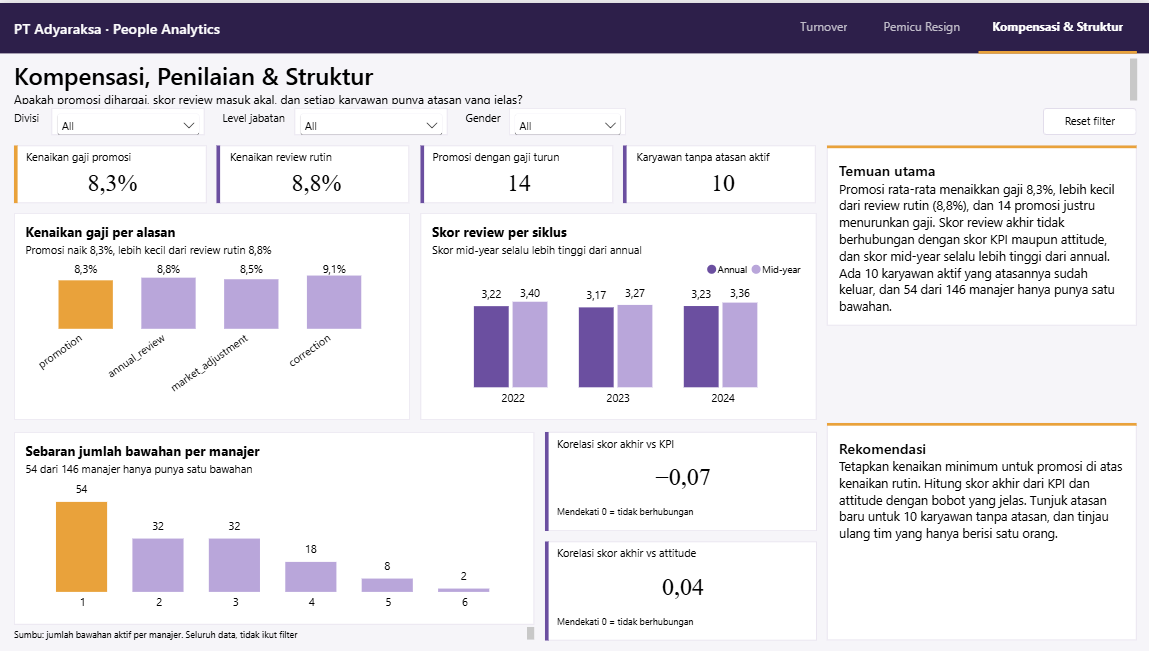

This screenshot's page, from the dashboard's own definition file:
{"tool":"powerbi","page":{"name":"Kompensasi & Struktur","canvas":[1280,720],"ordinal":2},"visuals":[{"type":"shape","box":[16,158,214,64],"z":0},{"type":"shape","box":[16,158,4,64],"z":1000},{"type":"textbox","box":[30,164,192,16],"z":2000},{"type":"card","fields":{"Values":["_Ukuran.Kenaikan Promosi %"]},"box":[30,180,192,38],"z":3000},{"type":"shape","box":[242,158,214,64],"z":4000},{"type":"shape","box":[242,158,4,64],"z":5000},{"type":"textbox","box":[256,164,192,16],"z":6000},{"type":"card","fields":{"Values":["_Ukuran.Kenaikan Review Rutin %"]},"box":[256,180,192,38],"z":7000},{"type":"shape","box":[468,158,214,64],"z":8000},{"type":"shape","box":[468,158,4,64],"z":9000},{"type":"textbox","box":[482,164,192,16],"z":10000},{"type":"card","fields":{"Values":["_Ukuran.Promosi Gaji Turun"]},"box":[482,180,192,38],"z":11000},{"type":"shape","box":[694,158,214,64],"z":12000},{"type":"shape","box":[694,158,4,64],"z":13000},{"type":"textbox","box":[708,164,192,16],"z":14000},{"type":"card","fields":{"Values":["_Ukuran.Tanpa Atasan Aktif"]},"box":[708,180,192,38],"z":15000},{"type":"clusteredColumnChart","title":"Kenaikan gaji per alasan","fields":{"Category":["salary_history.Alasan"],"Y":["_Ukuran.Kenaikan Gaji %"]},"box":[16,234,440,230],"z":16000},{"type":"clusteredColumnChart","title":"Skor review per siklus","fields":{"Category":["performance.review_year"],"Y":["_Ukuran.Skor Annual","_Ukuran.Skor Mid-year"]},"box":[468,234,440,230],"z":17000},{"type":"clusteredColumnChart","title":"Sebaran jumlah bawahan per manajer","fields":{"Category":["vw_q6_sebaran_span.jml_bawahan_aktif"],"Y":["_Ukuran.Jumlah Manajer Span"]},"box":[16,476,578,214],"z":18000},{"type":"textbox","box":[16,694,578,14],"z":19000},{"type":"shape","box":[606,476,302,110],"z":20000},{"type":"shape","box":[606,476,4,110],"z":21000},{"type":"textbox","box":[620,482,280,16],"z":22000},{"type":"card","fields":{"Values":["_Ukuran.Korelasi KPI"]},"box":[620,498,280,56],"z":23000},{"type":"textbox","box":[620,556,280,26],"z":24000},{"type":"shape","box":[606,598,302,110],"z":25000},{"type":"shape","box":[606,598,4,110],"z":26000},{"type":"textbox","box":[620,604,280,16],"z":27000},{"type":"card","fields":{"Values":["_Ukuran.Korelasi Attitude"]},"box":[620,620,280,56],"z":28000},{"type":"textbox","box":[620,678,280,26],"z":29000},{"type":"shape","box":[920.3,158.7,343.9,200.3],"z":30000},{"type":"shape","box":[920,158,344,3],"z":31000},{"type":"textbox","box":[933.6,175.7,315.6,173.9],"z":32000},{"type":"shape","box":[920,467,344,241],"z":33000},{"type":"shape","box":[920,467,344,3],"z":34000},{"type":"textbox","box":[934,484,316,214],"z":35000},{"type":"shape","box":[0,0,1280,56],"z":36000},{"type":"textbox","box":[16,16,360,26],"z":37000},{"type":"actionButton","box":[868,0,96,53],"z":38000},{"type":"actionButton","box":[964,0,124,53],"z":39000},{"type":"actionButton","box":[1088,0,176,53],"z":40000},{"type":"shape","box":[1088,53,176,3],"z":41000},{"type":"textbox","box":[16,62,1248,50],"z":42000},{"type":"textbox","box":[16,120,38,22],"z":43000},{"type":"slicer","fields":{"Values":["departments.division"]},"box":[58,116,170,30],"z":44000},{"type":"textbox","box":[248,120,76,22],"z":45000},{"type":"slicer","fields":{"Values":["employees.level_jabatan"]},"box":[328,116,170,30],"z":46000},{"type":"textbox","box":[518,120,44,22],"z":47000},{"type":"slicer","fields":{"Values":["employees.gender"]},"box":[566,116,130,30],"z":48000},{"type":"actionButton","box":[1160,116,104,30],"z":49000}]}

Visuals, with their boxes on the page's 1280x720 design canvas (x1, y1, x2, y2). These are canvas units, not pixel positions in the 1149x651 screenshot, which may show the page scaled, cropped or inside an application window:
shape: 16,158,230,222
shape: 16,158,20,222
textbox: 30,164,222,180
card - _Ukuran.Kenaikan Promosi %: 30,180,222,218
shape: 242,158,456,222
shape: 242,158,246,222
textbox: 256,164,448,180
card - _Ukuran.Kenaikan Review Rutin %: 256,180,448,218
shape: 468,158,682,222
shape: 468,158,472,222
textbox: 482,164,674,180
card - _Ukuran.Promosi Gaji Turun: 482,180,674,218
shape: 694,158,908,222
shape: 694,158,698,222
textbox: 708,164,900,180
card - _Ukuran.Tanpa Atasan Aktif: 708,180,900,218
"Kenaikan gaji per alasan" clusteredColumnChart: 16,234,456,464
"Skor review per siklus" clusteredColumnChart: 468,234,908,464
"Sebaran jumlah bawahan per manajer" clusteredColumnChart: 16,476,594,690
textbox: 16,694,594,708
shape: 606,476,908,586
shape: 606,476,610,586
textbox: 620,482,900,498
card - _Ukuran.Korelasi KPI: 620,498,900,554
textbox: 620,556,900,582
shape: 606,598,908,708
shape: 606,598,610,708
textbox: 620,604,900,620
card - _Ukuran.Korelasi Attitude: 620,620,900,676
textbox: 620,678,900,704
shape: 920,159,1264,359
shape: 920,158,1264,161
textbox: 934,176,1249,350
shape: 920,467,1264,708
shape: 920,467,1264,470
textbox: 934,484,1250,698
shape: 0,0,1280,56
textbox: 16,16,376,42
actionButton: 868,0,964,53
actionButton: 964,0,1088,53
actionButton: 1088,0,1264,53
shape: 1088,53,1264,56
textbox: 16,62,1264,112
textbox: 16,120,54,142
slicer - departments.division: 58,116,228,146
textbox: 248,120,324,142
slicer - employees.level_jabatan: 328,116,498,146
textbox: 518,120,562,142
slicer - employees.gender: 566,116,696,146
actionButton: 1160,116,1264,146
